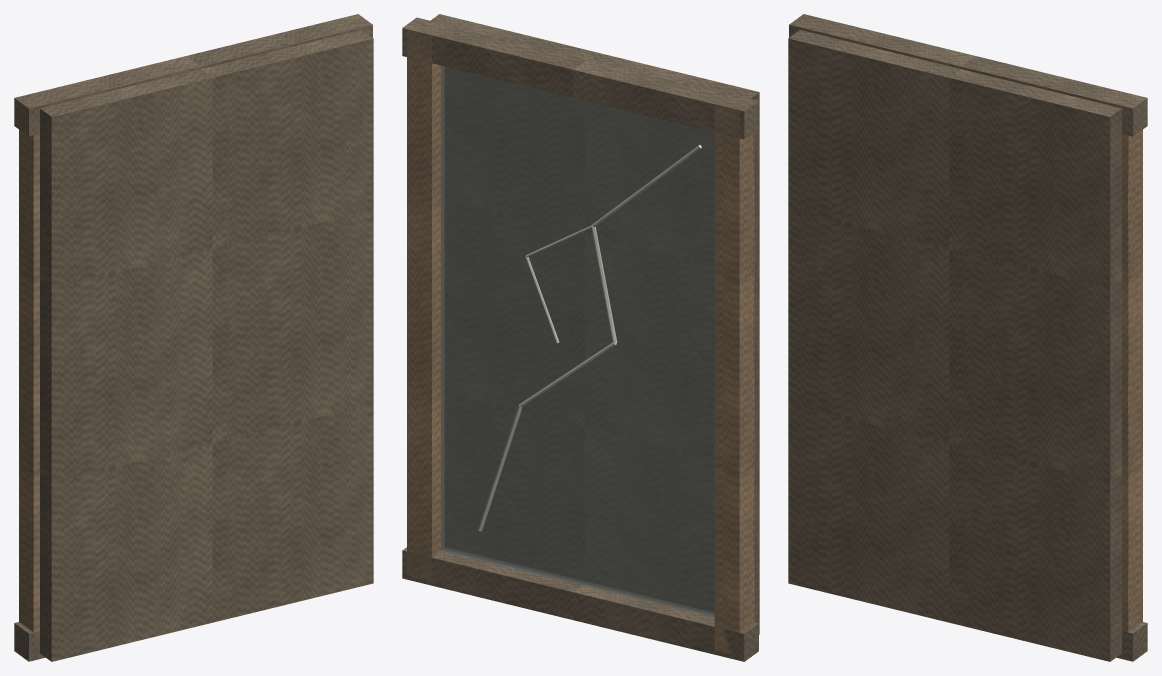
File: crooked_wall_mirror.glb
The picture shows the model from 3 angles, left to right: view 1: azimuth 30°, elevation 25°; view 2: azimuth 150°, elevation 25°; view 3: azimuth 330°, elevation 25°; orthographic projection.
Parts seen in each view (by area): view 1: InteriorPropGeometry; view 2: InteriorPropGeometry; view 3: InteriorPropGeometry.
Boxes of the visible parts, x1,y1,x2,y2 form: InteriorPropGeometry: (14,14,373,661); InteriorPropGeometry: (402,14,759,661); InteriorPropGeometry: (788,14,1147,661).
Size of the model in its own units: 1.09 by 1.67 by 0.145.
Materials: 4 (3 with a texture image).
